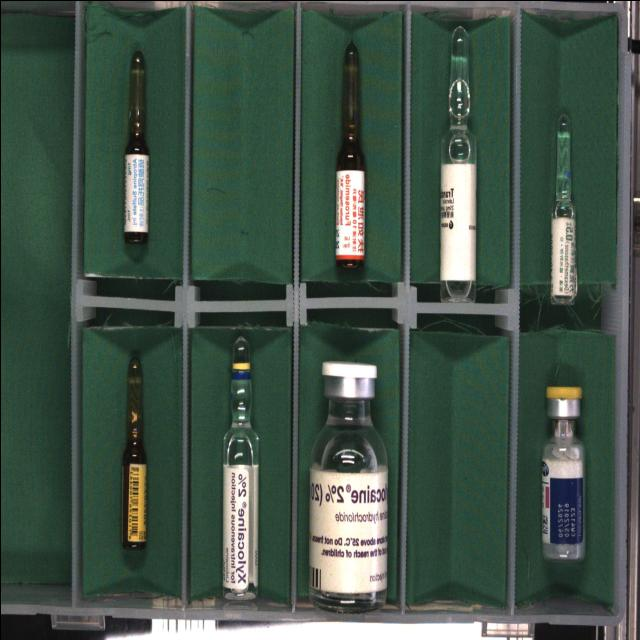Vials: (309, 361, 388, 611), (540, 385, 585, 560)
